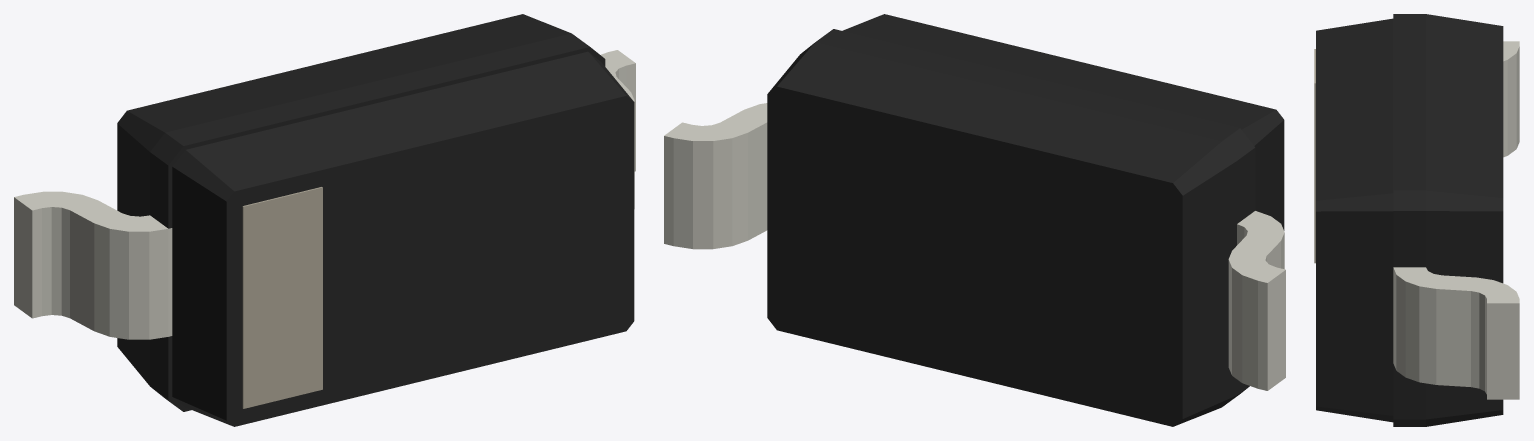
The model's file is D_SOD-123.glb.
3 renders of one model, left to right at view 1: azimuth 30°, elevation 25°; view 2: azimuth 150°, elevation 25°; view 3: azimuth 270°, elevation 25°, orthographic. The views are drawn at different scales.
Parts seen in each view (by area): view 1: D_SOD-123_084fe9, D_SOD-123_e391c2, D_SOD-123_faa372; view 2: D_SOD-123_084fe9, D_SOD-123_e391c2; view 3: D_SOD-123_084fe9, D_SOD-123_e391c2, D_SOD-123_faa372.
Part boxes in pixels (x1=…): D_SOD-123_084fe9: x1=117, y1=14, x2=634, y2=426; D_SOD-123_e391c2: x1=14, y1=50, x2=635, y2=339; D_SOD-123_faa372: x1=242, y1=187, x2=322, y2=408; D_SOD-123_084fe9: x1=767, y1=14, x2=1284, y2=426; D_SOD-123_e391c2: x1=664, y1=103, x2=1285, y2=390; D_SOD-123_084fe9: x1=1316, y1=14, x2=1503, y2=426; D_SOD-123_e391c2: x1=1393, y1=41, x2=1519, y2=399; D_SOD-123_faa372: x1=1314, y1=49, x2=1315, y2=263.
Bounding box in the file's own units: 0.0038 × 0.0016 × 0.00126.
